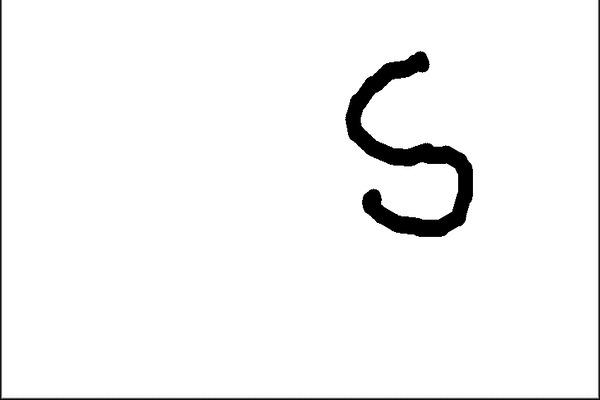S: (335, 46, 488, 245)
